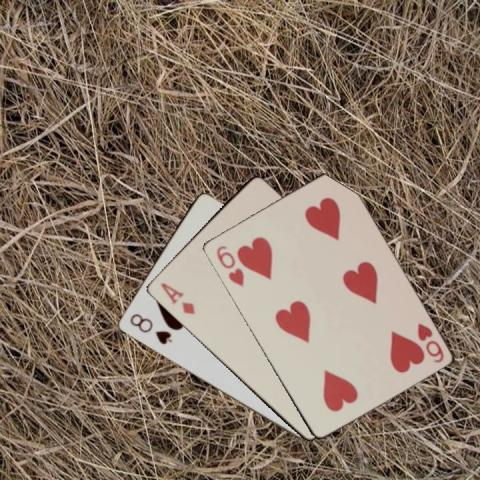6h: (213, 242, 245, 288), (414, 319, 446, 365)
8s: (126, 311, 173, 346)
Ad: (157, 279, 197, 316)
